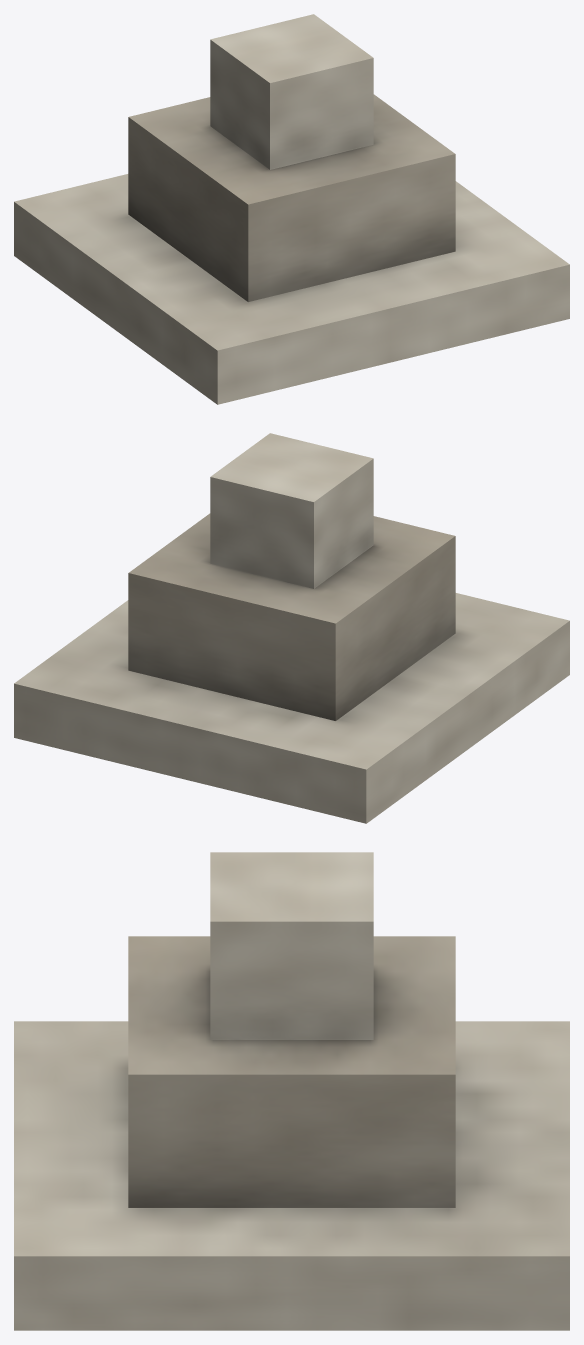
The model's file is altar.obj.
3 renders of one model, top to bottom at view 1: azimuth 30°, elevation 25°; view 2: azimuth 150°, elevation 25°; view 3: azimuth 270°, elevation 25°, orthographic. The views are drawn at different scales.
Bounding box in the file's own units: 3.4 × 2.2 × 3.4.
Materials: 1 (1 with a texture image).
